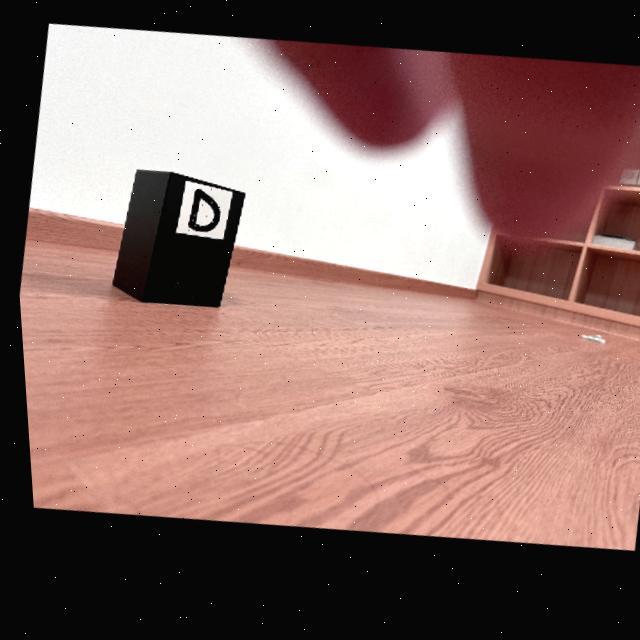D: (184, 192, 217, 236)
